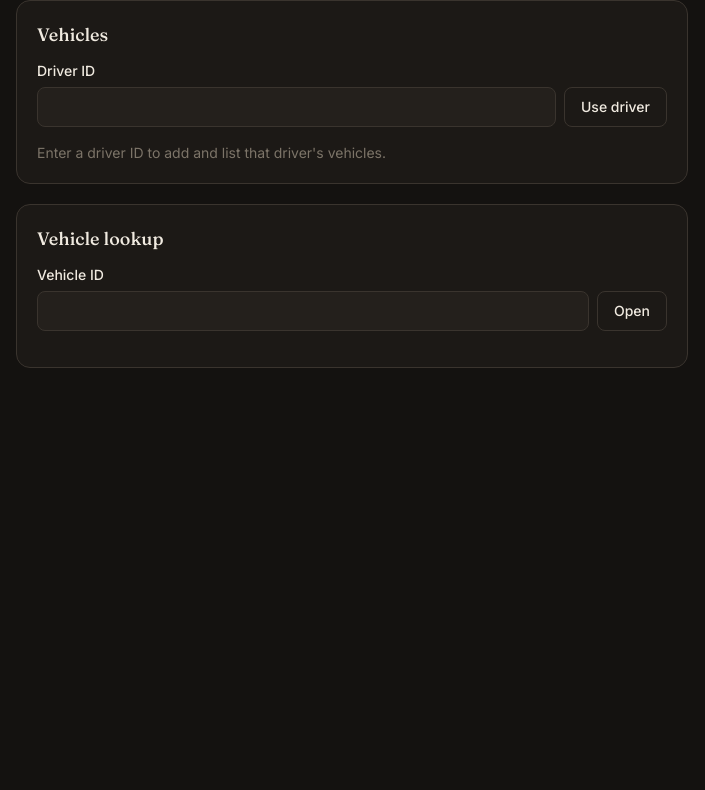
Scenario: Feature: ridenow-frontend, Task 11.5: driver/vehicle not-found and conflict handling › surfaces a sanitized conflict message when addVehicle rejects with ApiError.conflict (Req 6.6)
The width and height of the screenshot is (705, 790).
Note: Scope the add form to a driver first.
In the field labelled "Driver ID": (296, 107) x1=37 y1=87 x2=556 y2=127, type "driver-1"
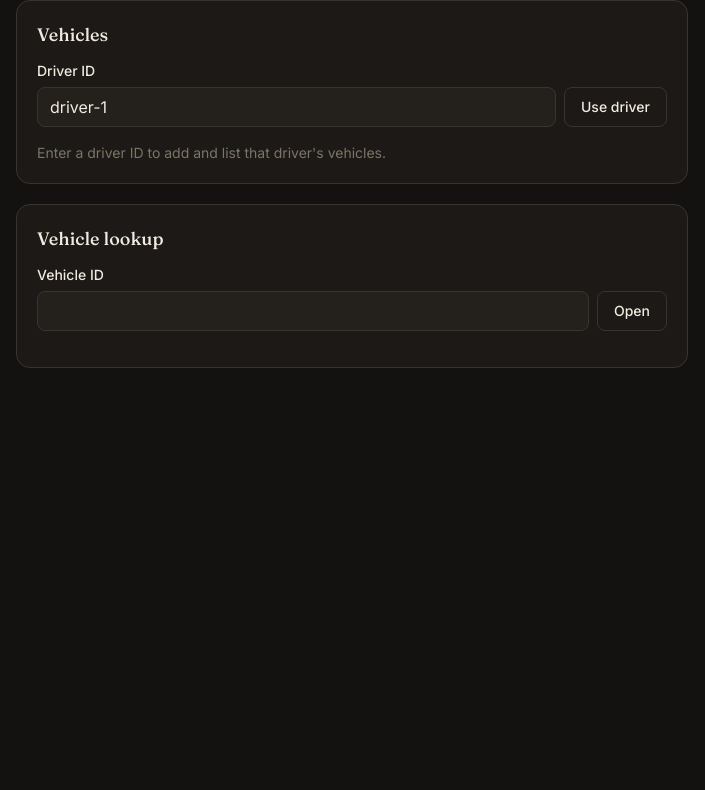
Click the button "Use driver": (616, 107) x1=564 y1=87 x2=667 y2=127
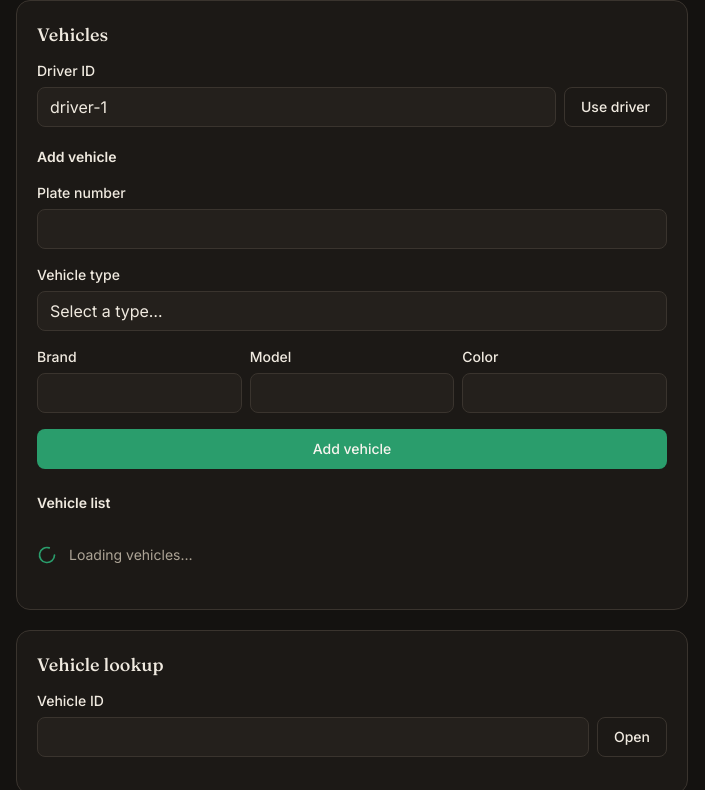
Note: Fill the required add-vehicle fields (plate + type) and submit.
In the field labelled "Plate number": (352, 229) x1=37 y1=209 x2=667 y2=249, type "ABC-123"
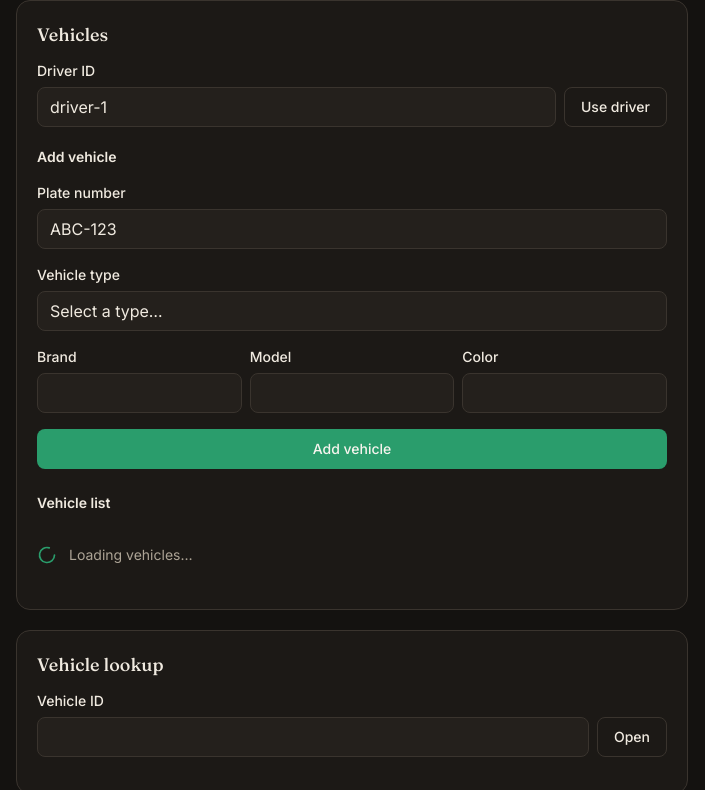
Select "CAR" in the dropdown labelled "Vehicle type": (352, 311) x1=37 y1=291 x2=667 y2=331
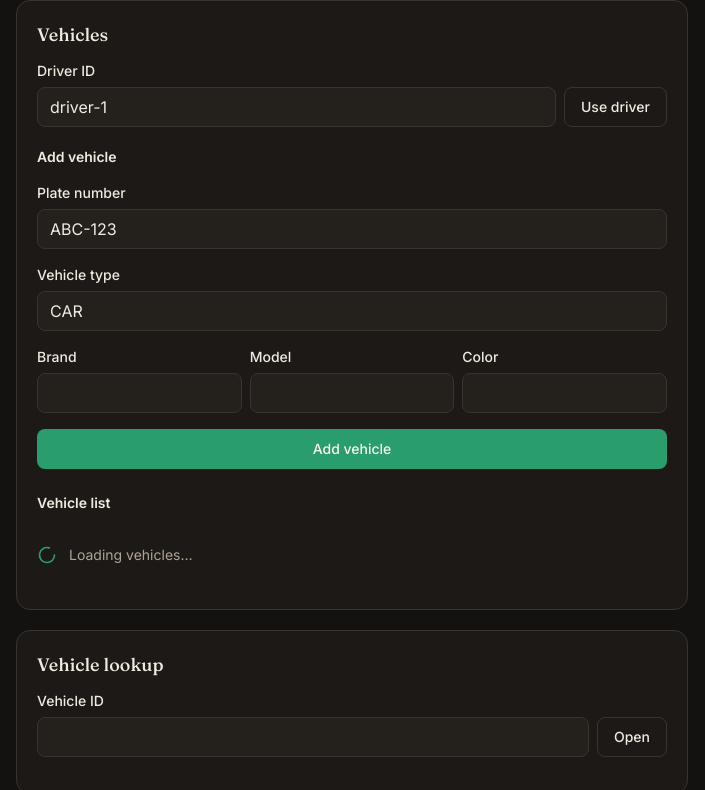
Click the button "Add vehicle": (352, 449) x1=37 y1=429 x2=667 y2=469
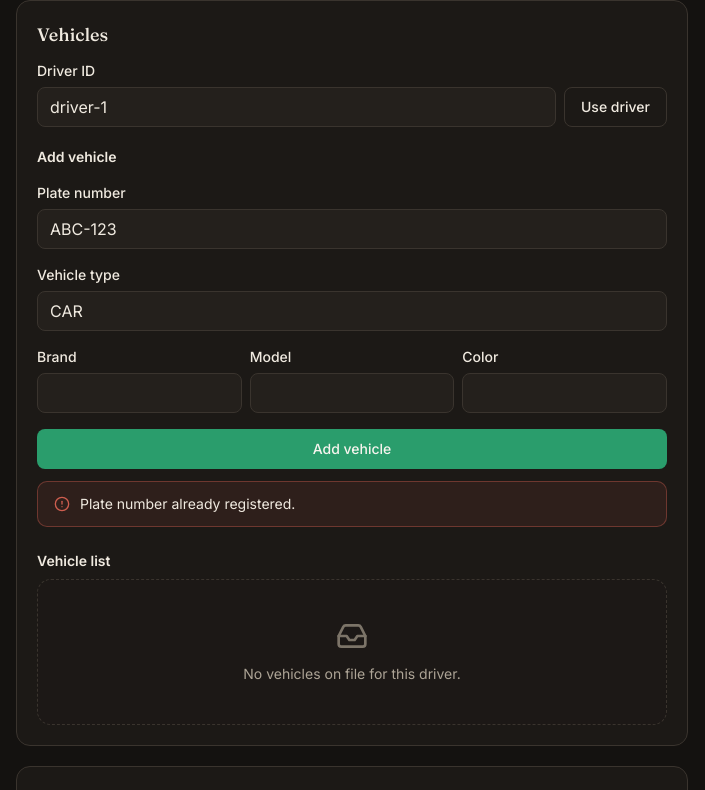
Now the text "Plate number already registered." is shown, box x1=80 y1=494 x2=295 y2=514
